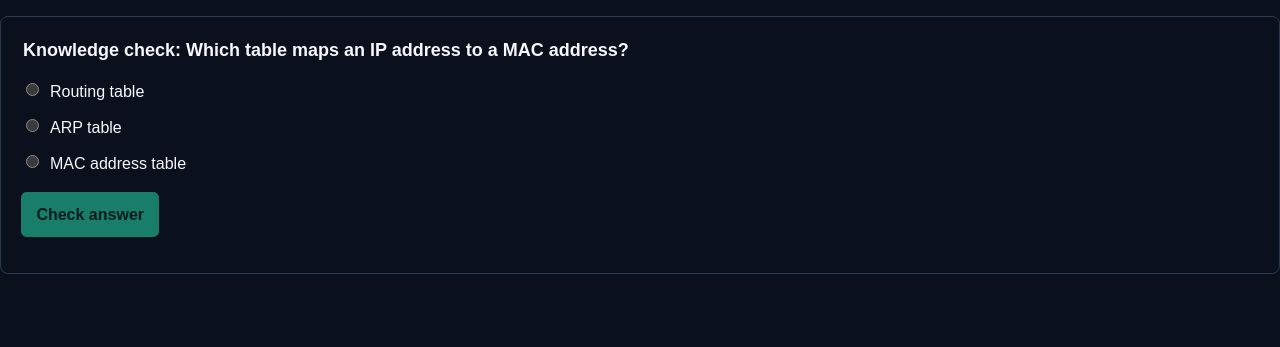
Scenario: KnowledgeCheck › reveals a knowledge-check explanation only after an answer
Expected: the text "arp resolves" is not shown
Click the radio button labelled "ARP table" at (32, 126), box x1=26 y1=119 x2=39 y2=132
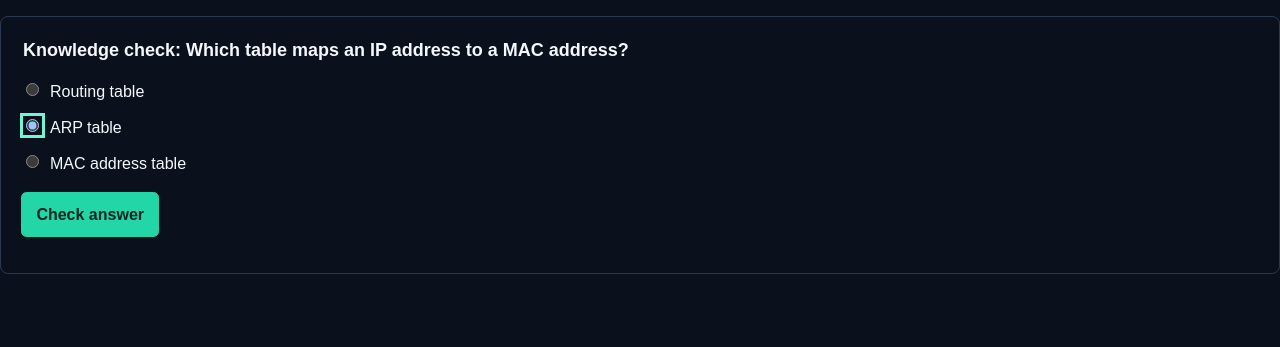
Click the button "Check answer" at (90, 215), box x1=21 y1=192 x2=159 y2=237
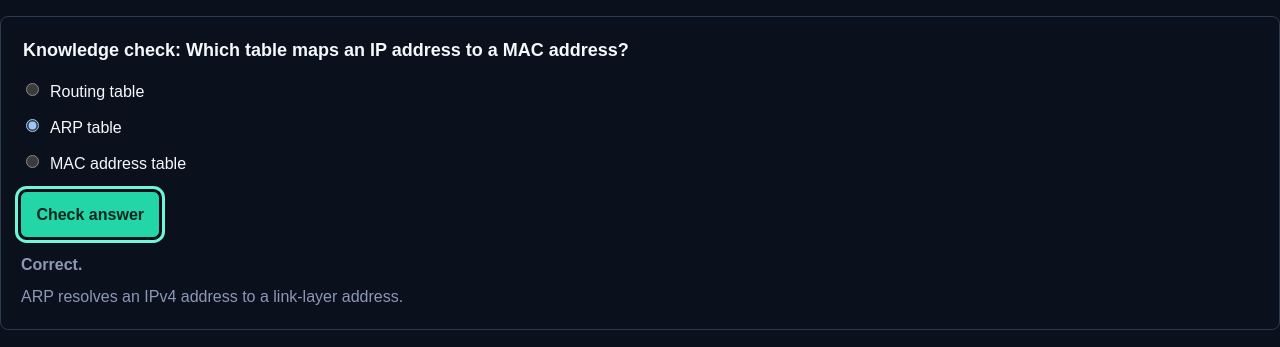
Result: the text "ARP resolves an IPv4 address to a link-layer address." is shown at x1=21 y1=288 x2=403 y2=305
Result: the text "Correct." is shown at x1=21 y1=256 x2=82 y2=273
